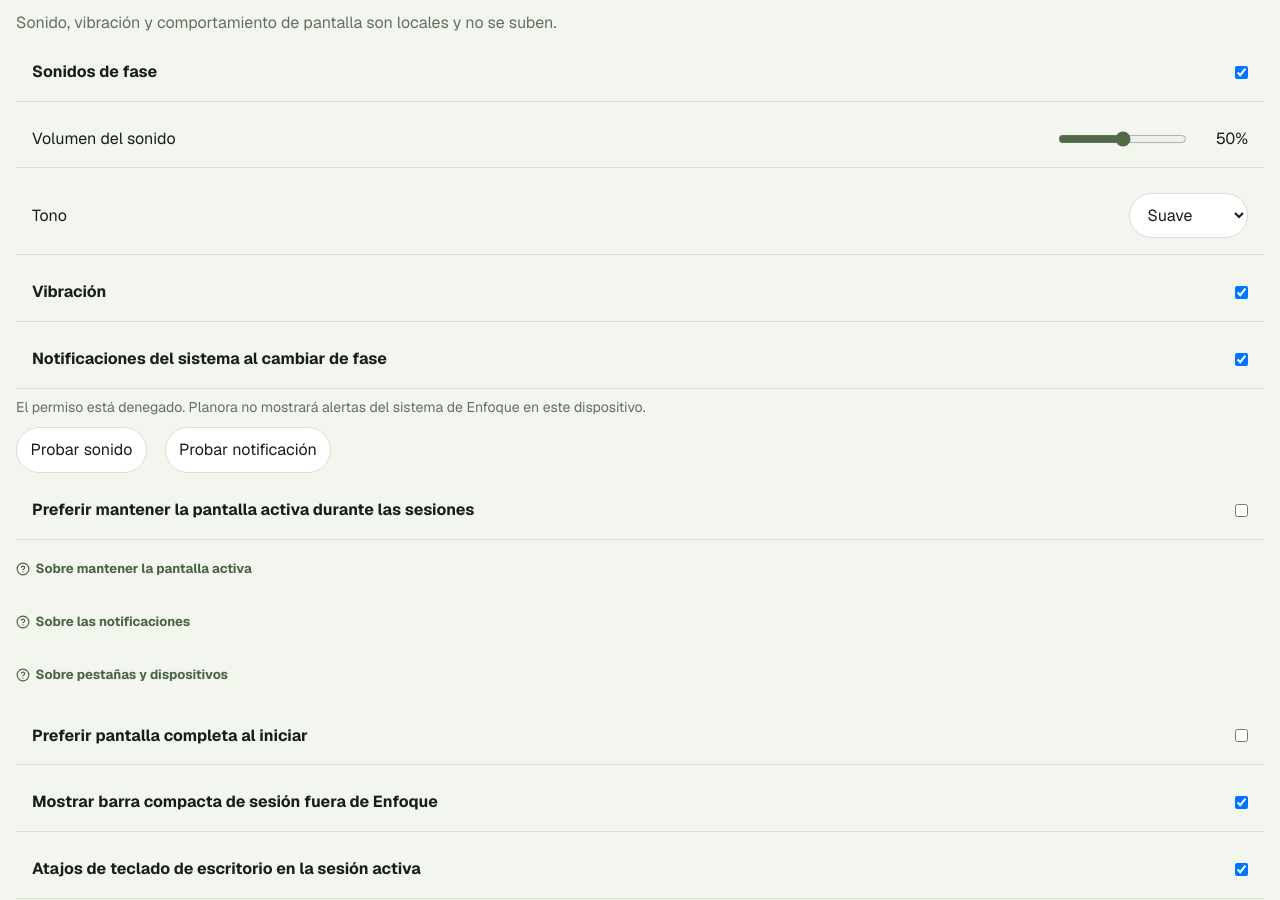
Scenario: focus sound preview › stops only the settings preview when sound is turned off
The image size is (1280, 900).
(page scrolled)
Click the button "Probar sonido": (81, 450) x1=16 y1=427 x2=147 y2=473
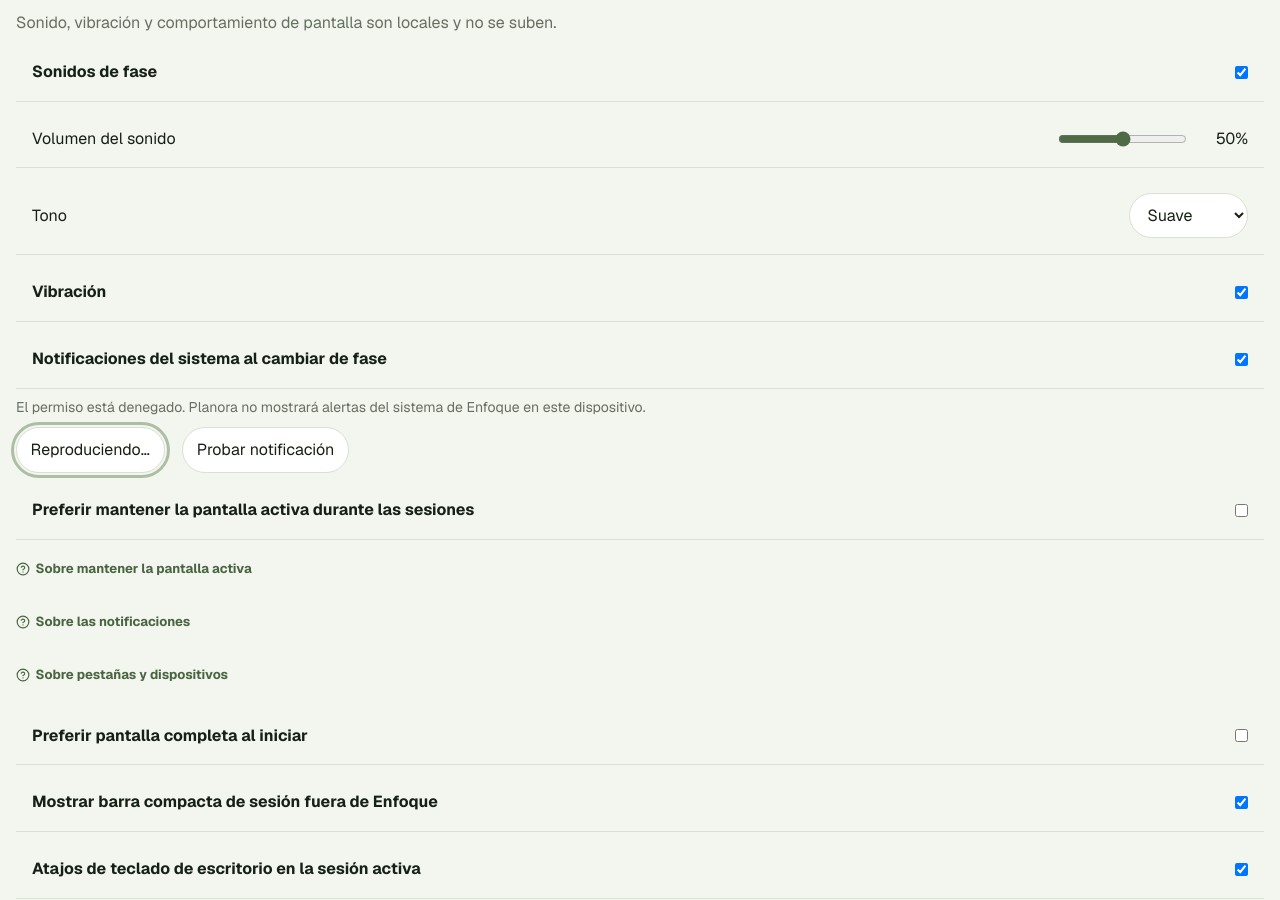
Click the checkbox labelled "Sonidos de fase": (1242, 72) x1=1235 y1=66 x2=1248 y2=79
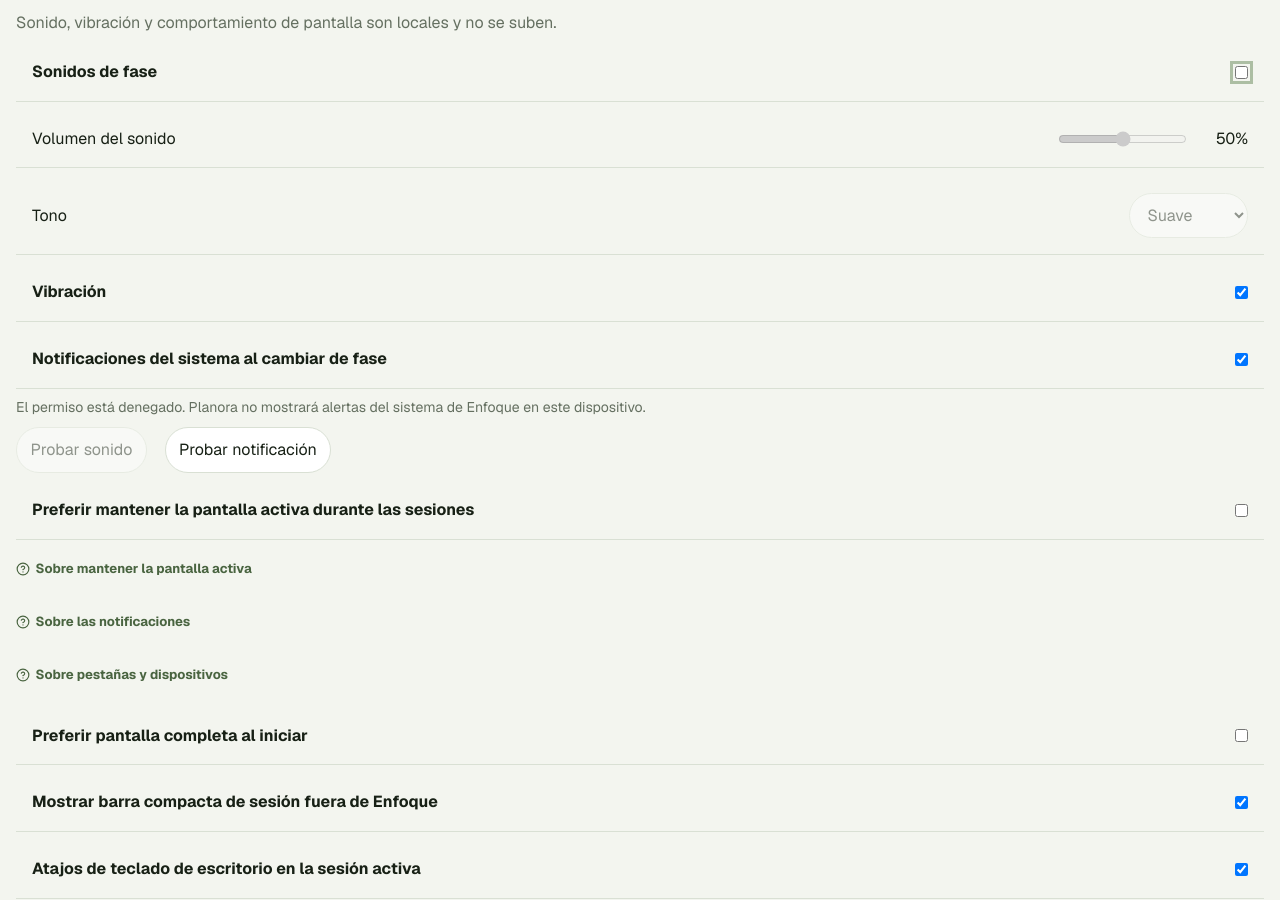
Result: the button "Probar sonido" is disabled at x1=16 y1=427 x2=147 y2=473
